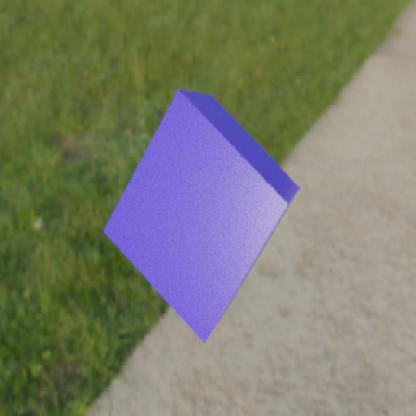blue_cube: (102, 89, 300, 344)
